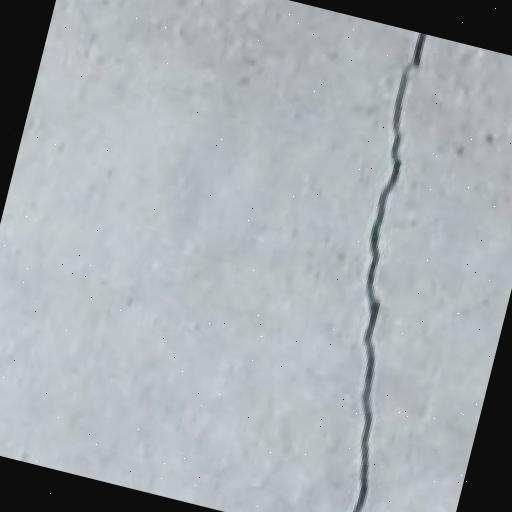spalling: (323, 28, 444, 512)
